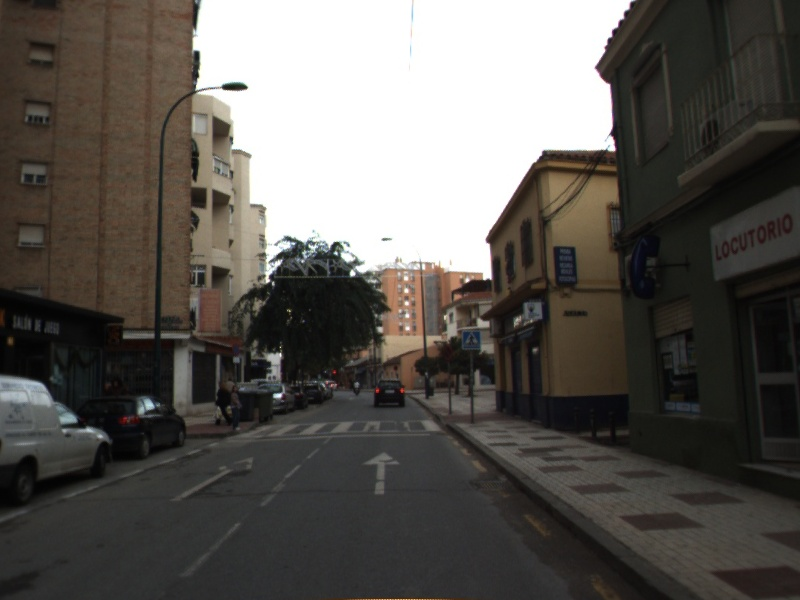STRAIGHT: (167, 454, 256, 504), (360, 449, 403, 497)
